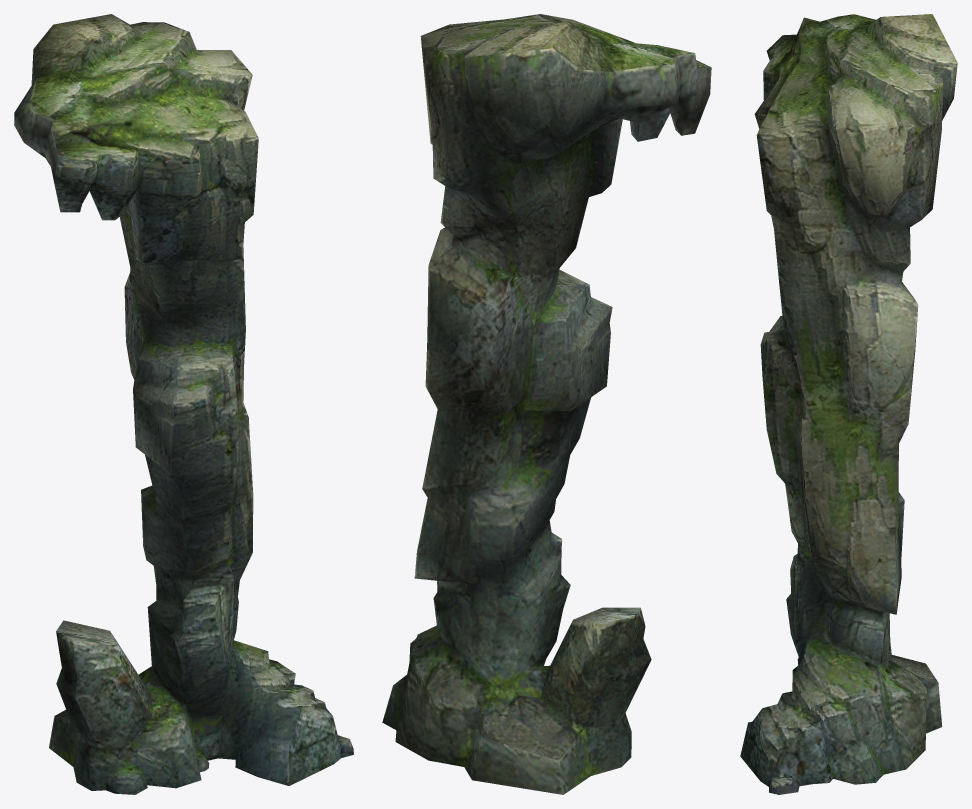
The model's file is S_Rock_Green047.FBX.
The picture shows the model from 3 angles, left to right: view 1: azimuth 30°, elevation 25°; view 2: azimuth 150°, elevation 25°; view 3: azimuth 270°, elevation 25°; orthographic projection. The views are drawn at different scales.
Visible parts, largest first — view 1: S_Rock_Green047; view 2: S_Rock_Green047; view 3: S_Rock_Green047.
Part boxes in pixels (bbox=[...]): S_Rock_Green047: bbox=[14, 14, 353, 794]; S_Rock_Green047: bbox=[382, 14, 711, 794]; S_Rock_Green047: bbox=[740, 14, 957, 794].
Size of the model in its own units: 1255 by 2940 by 848.
